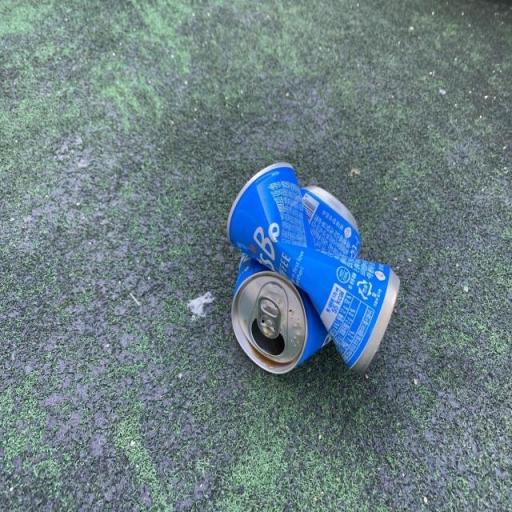metal: (213, 143, 406, 398), (224, 258, 321, 382)
